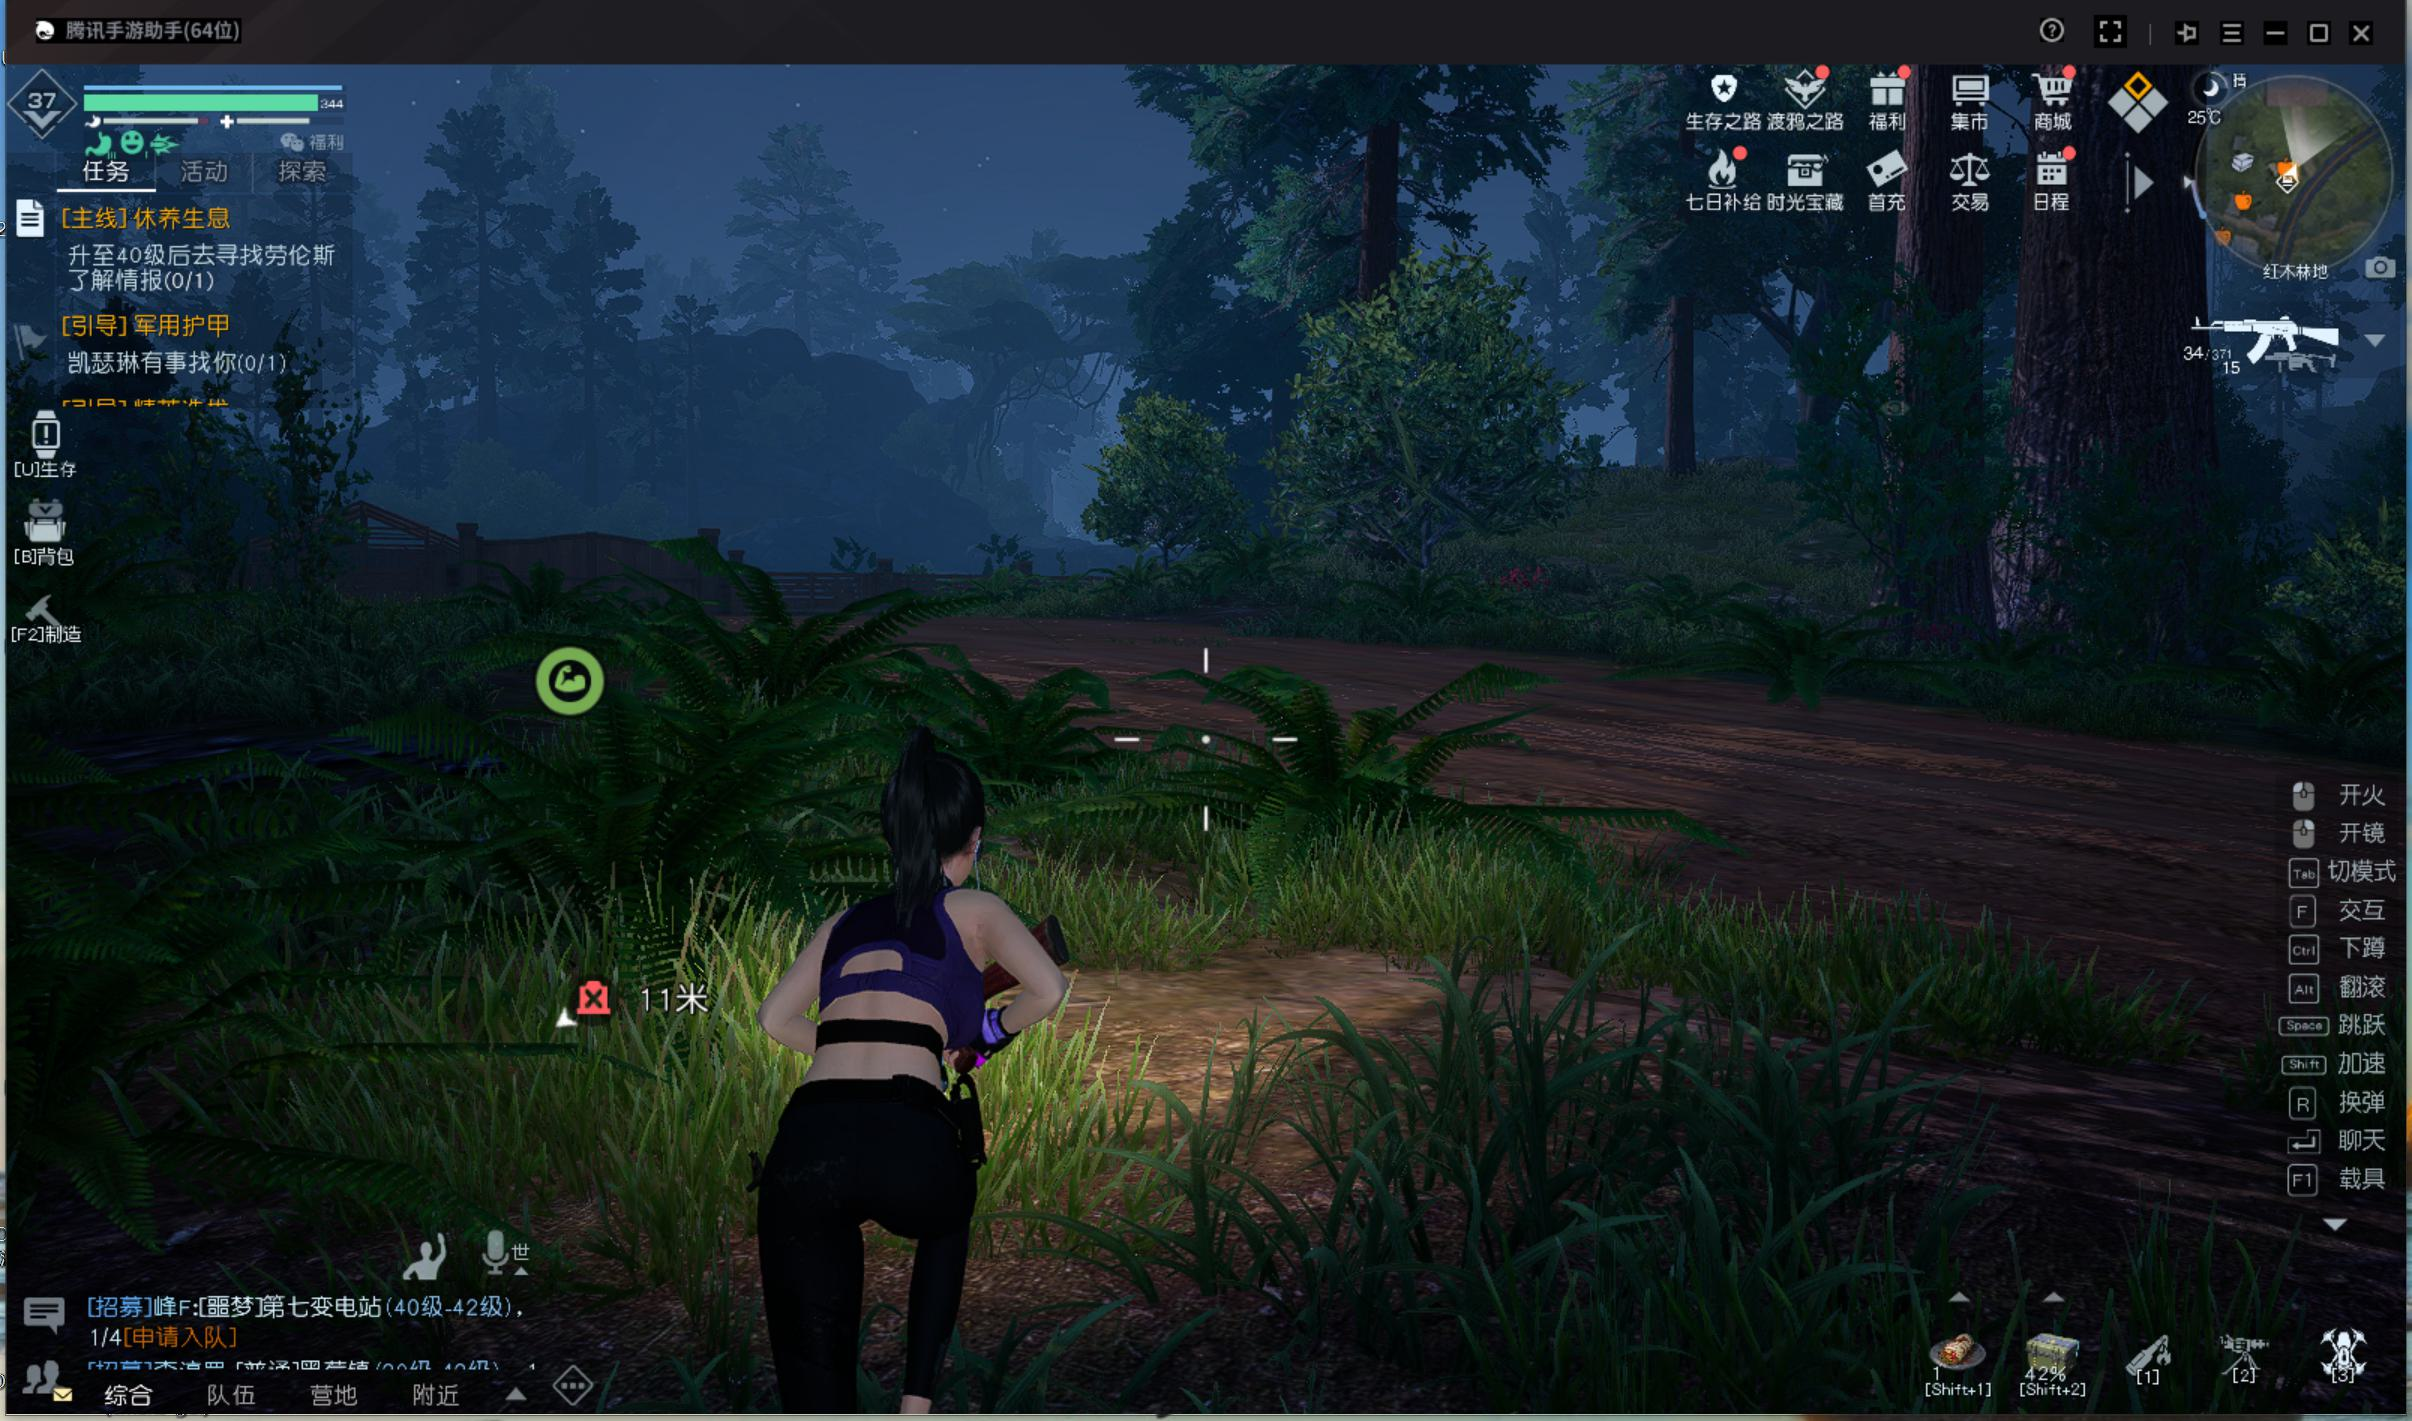tree: (1871, 250, 1998, 685), (1358, 139, 1395, 572), (1654, 283, 1700, 489)
